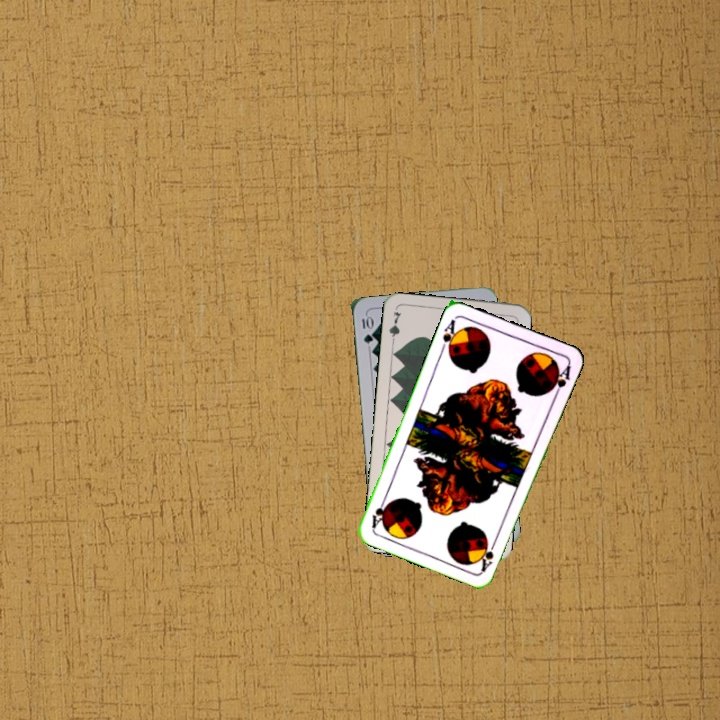G10: (358, 312, 375, 346)
G7: (385, 308, 404, 348)
SA: (437, 315, 461, 356), (477, 535, 500, 574)
